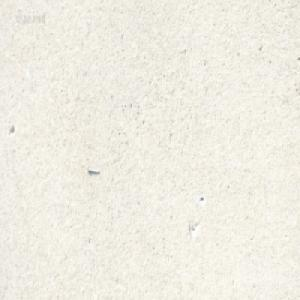Nail: (86, 164, 100, 173)
